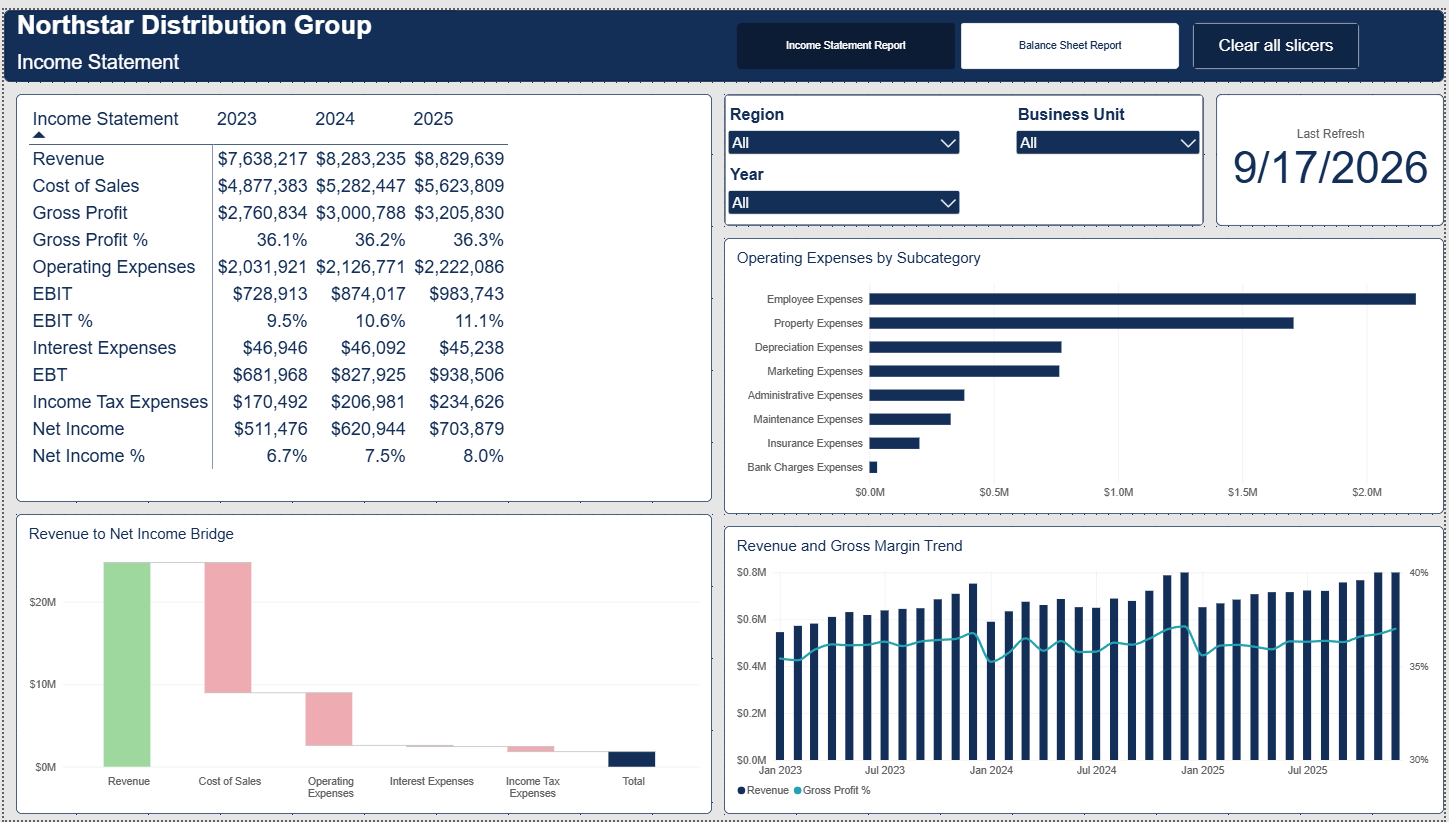

The dashboard page shown, as its layout file describes it:
{"tool":"powerbi","page":{"name":"Income Statement Report","canvas":[1920,1080],"ordinal":0},"visuals":[{"type":"shape","box":[960,112,640,176],"z":0},{"type":"shape","box":[0,0,1920,96],"z":1000},{"type":"textbox","title":"Northstar Distribution Group","box":[16,0,592,96],"z":2000},{"type":"pivotTable","fields":{"Columns":["DimDate.Year"],"Rows":["StatementHeaders.Category"],"Values":["Measures_.Income Statement Value"]},"box":[16,112,928,544],"z":3000},{"type":"slicer","fields":{"Values":["DimRegion.RegionName"]},"box":[960,128,320,80],"z":4000},{"type":"slicer","fields":{"Values":["DimBusinessUnit.BusinessUnitName"]},"box":[1344,128,256,80],"z":5000},{"type":"cardVisual","fields":{"Data":["Measures_.Last Refresh"]},"box":[1616,112,304,176],"z":6000},{"type":"actionButton","box":[1584,16,224,64],"z":7000},{"type":"slicer","fields":{"Values":["DimDate.Year"]},"box":[960,208,320,80],"z":8000},{"type":"lineClusteredColumnComboChart","title":"Revenue and Gross Margin Trend","fields":{"Category":["DimDate.MonthStart"],"Y":["Measures_.Revenue"],"Y2":["Measures_.Gross Profit %"]},"box":[960,688,960,384],"z":9000},{"type":"clusteredBarChart","title":"Operating Expenses by Subcategory","fields":{"Category":["DimGLAccount.Subcategory"],"Y":["Measures_.Operating Expenses"]},"box":[960,304,960,368],"z":10000},{"type":"waterfallChart","title":"Revenue to Net Income Bridge","fields":{"Category":["StatementHeaders.Category"],"Y":["Measures_.Income Statement Waterfall"]},"box":[16,672,928,400],"z":10001},{"type":"pageNavigator","box":[976,16,592,64],"z":10002}]}

Visuals, with their boxes in screenshot pixels (x1, y1, x2, y2), scaled from the page's 1920x1080 canvas onto the 1449x822 screenshot:
shape: <region>724, 85, 1208, 219</region>
shape: <region>0, 0, 1448, 73</region>
"Northstar Distribution Group" textbox: <region>12, 0, 459, 73</region>
pivotTable - DimDate.Year x StatementHeaders.Category: <region>12, 85, 712, 499</region>
slicer - DimRegion.RegionName: <region>724, 97, 966, 158</region>
slicer - DimBusinessUnit.BusinessUnitName: <region>1014, 97, 1208, 158</region>
cardVisual - Measures_.Last Refresh: <region>1220, 85, 1448, 219</region>
actionButton: <region>1195, 12, 1364, 61</region>
slicer - DimDate.Year: <region>724, 158, 966, 219</region>
"Revenue and Gross Margin Trend" lineClusteredColumnComboChart: <region>724, 524, 1448, 816</region>
"Operating Expenses by Subcategory" clusteredBarChart: <region>724, 231, 1448, 511</region>
"Revenue to Net Income Bridge" waterfallChart: <region>12, 511, 712, 816</region>
pageNavigator: <region>737, 12, 1183, 61</region>
